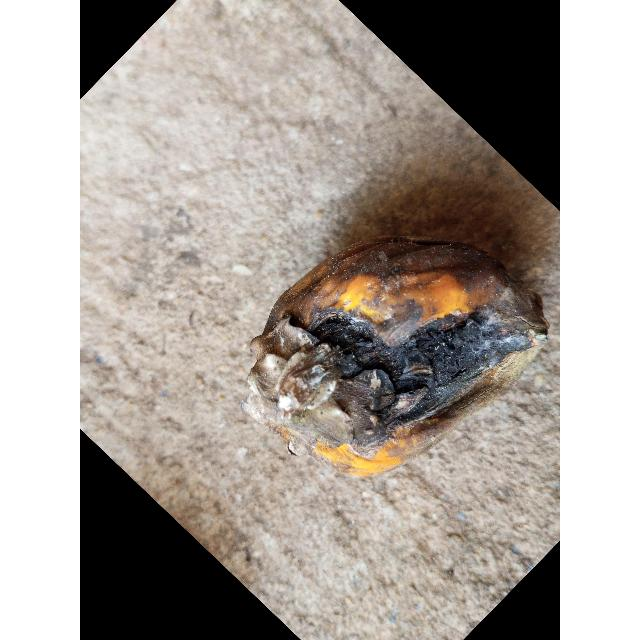damaged: (240, 235, 548, 479)
